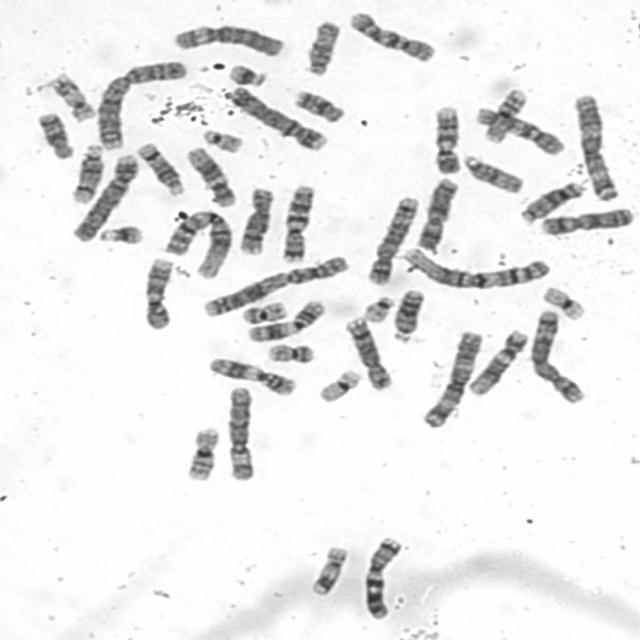A1: (398, 244, 550, 291), (161, 207, 234, 280)
A2: (198, 252, 351, 318), (92, 57, 190, 151)
A3: (418, 328, 486, 430), (570, 91, 620, 202)
B4: (226, 84, 329, 151), (68, 150, 140, 244)
B5: (527, 307, 588, 405), (365, 193, 420, 286)
C10: (345, 8, 438, 64), (472, 104, 568, 156)
C11: (203, 353, 298, 398), (240, 297, 328, 344)
C12: (464, 326, 530, 396), (184, 143, 238, 209)
C6: (168, 21, 286, 58), (222, 384, 258, 482)
C7: (358, 534, 406, 620), (277, 182, 318, 264)
C8: (341, 314, 395, 392), (234, 184, 277, 257)
C9: (134, 260, 178, 331), (430, 102, 464, 176)
D13: (516, 179, 587, 224), (387, 286, 427, 342)
D14: (133, 140, 186, 197), (67, 142, 105, 206)
D15: (460, 151, 525, 196), (302, 18, 342, 77)
E16: (480, 86, 530, 144), (181, 424, 222, 483)
E17: (49, 70, 96, 123), (305, 542, 348, 598)
E18: (291, 86, 347, 124), (35, 109, 76, 160)
F19: (539, 283, 588, 322), (315, 366, 364, 404)
F20: (236, 298, 288, 326), (265, 340, 317, 364)
G21: (95, 221, 146, 247), (225, 61, 269, 88)
G22: (200, 126, 246, 154), (360, 292, 395, 324)
X: (411, 175, 460, 252), (536, 204, 636, 236)
